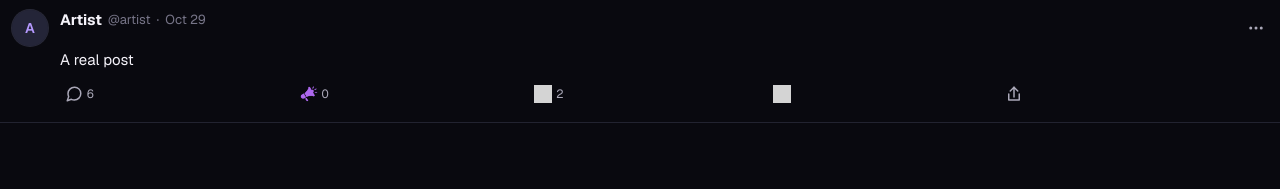
Test: post pinning › shows the pin option on the author's own post
The width and height of the screenshot is (1280, 189).
Click the button named "Post options for Artist's post": (1256, 28) [1238,10,1274,46]
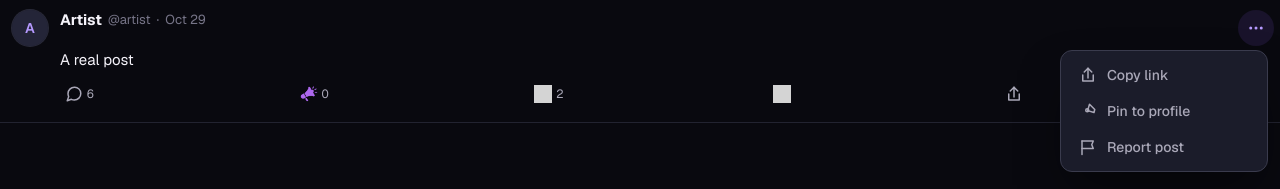
Expected: the menu item "Pin to profile" is shown, [1067,93,1261,129]
